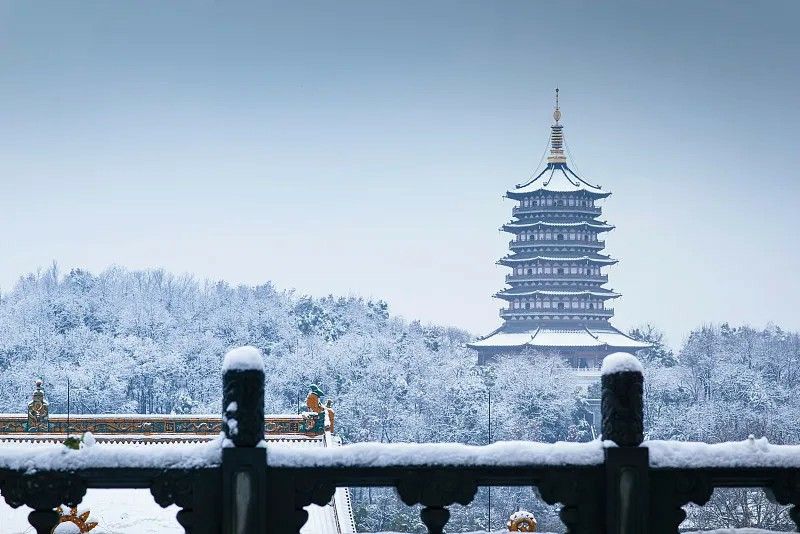Leifeng: (466, 83, 656, 368)
